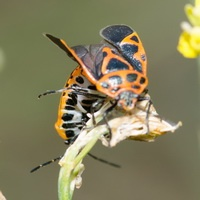insect: (40, 25, 181, 199)
